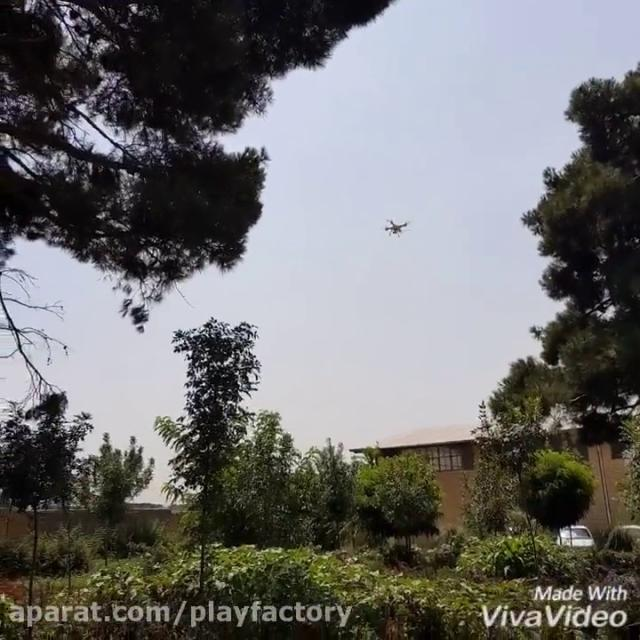drone: (378, 214, 411, 239)
